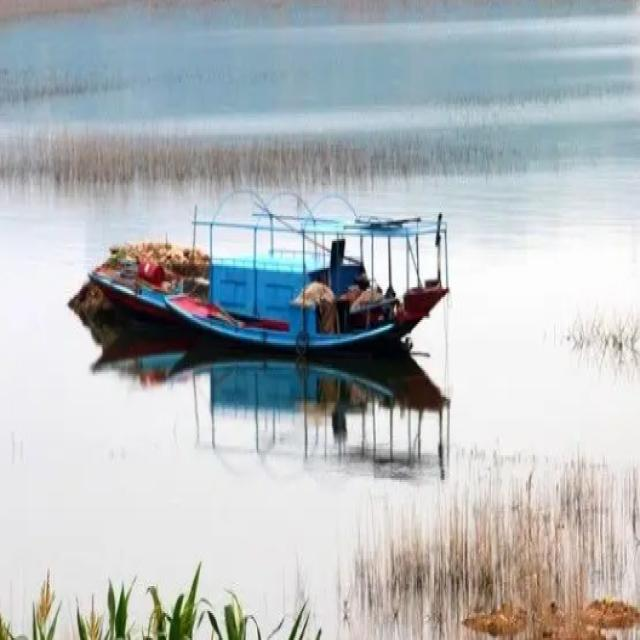fishing boat: (82, 192, 454, 356)
